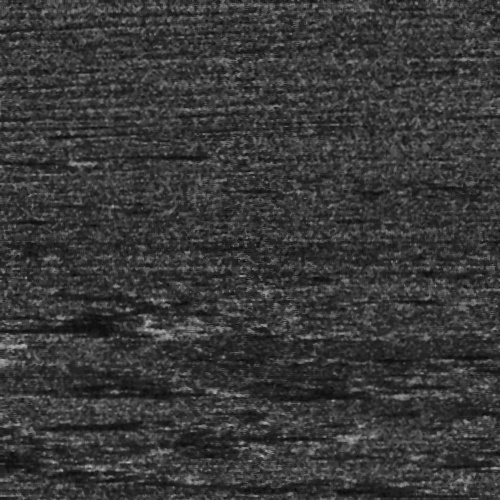object: (194, 384, 257, 395), (112, 321, 165, 332), (0, 338, 35, 343), (476, 492, 500, 495)
shadow: (75, 384, 225, 395), (0, 321, 138, 332), (362, 492, 491, 495), (143, 152, 221, 153)
